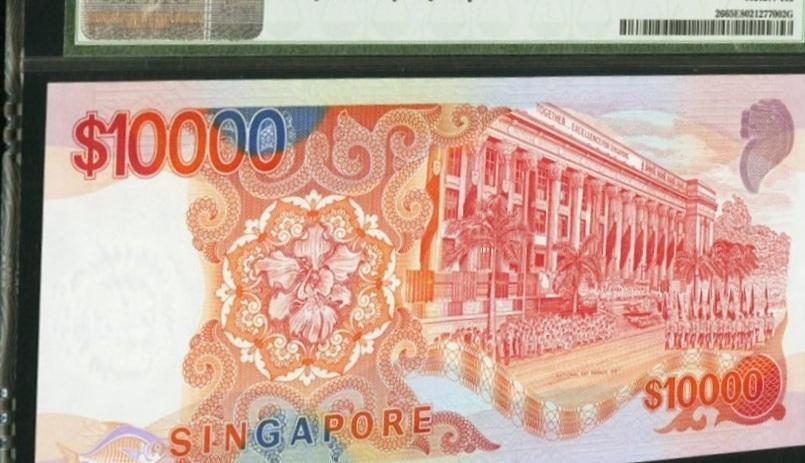10000SingaporeDollar: (50, 85, 805, 463)
